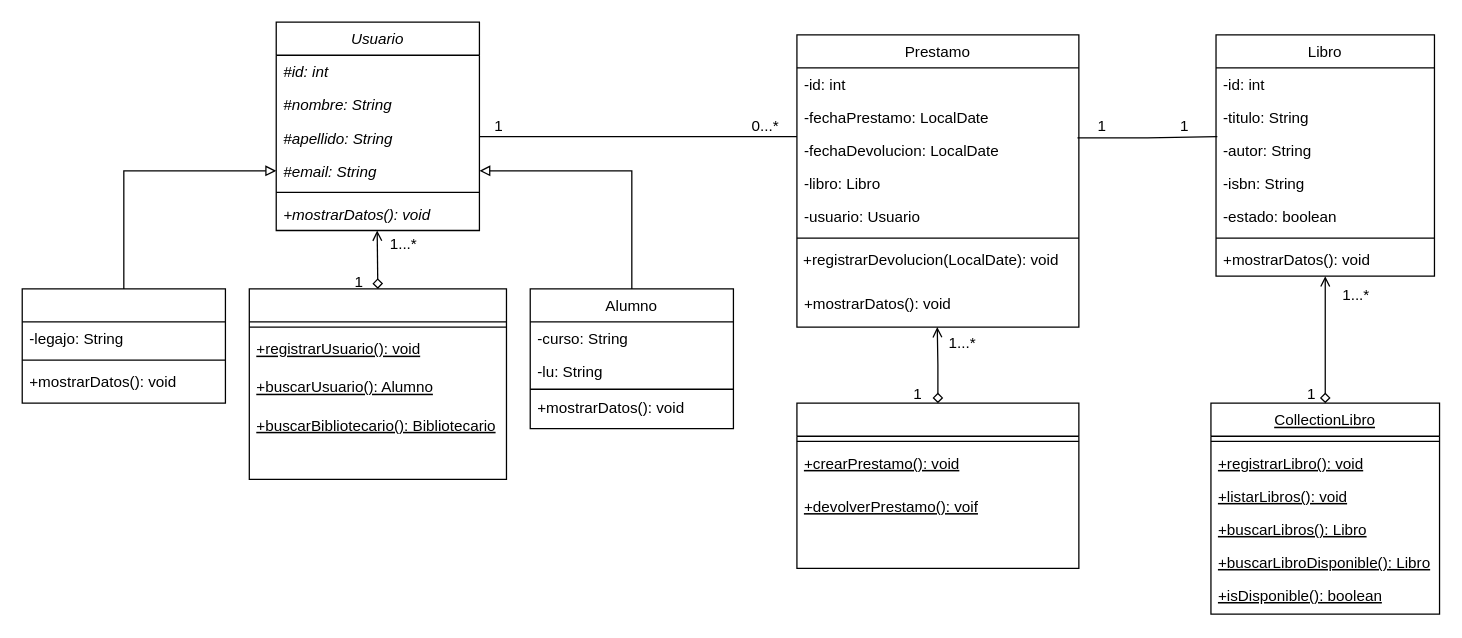
Some shapes in this 1462 by 638 pixel diagram are drawn without their labels. Each missing label, with the box of its shape:
Bibliotecario: (21, 288, 225, 403)
CollectionPrestamo: (796, 402, 1079, 568)
CollectionUsuario: (248, 288, 506, 479)
